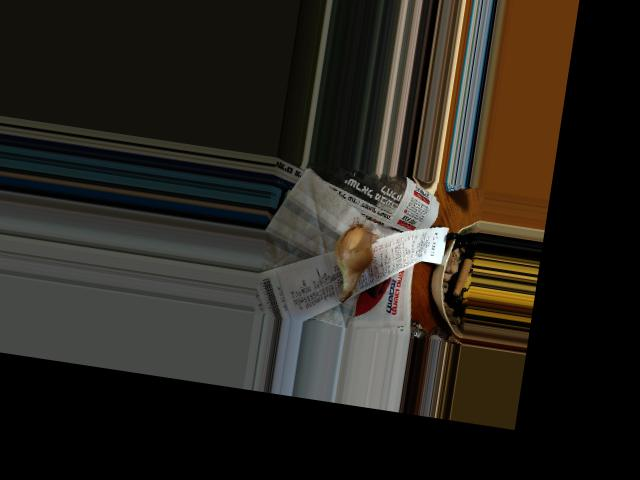onion: (333, 223, 374, 286)
